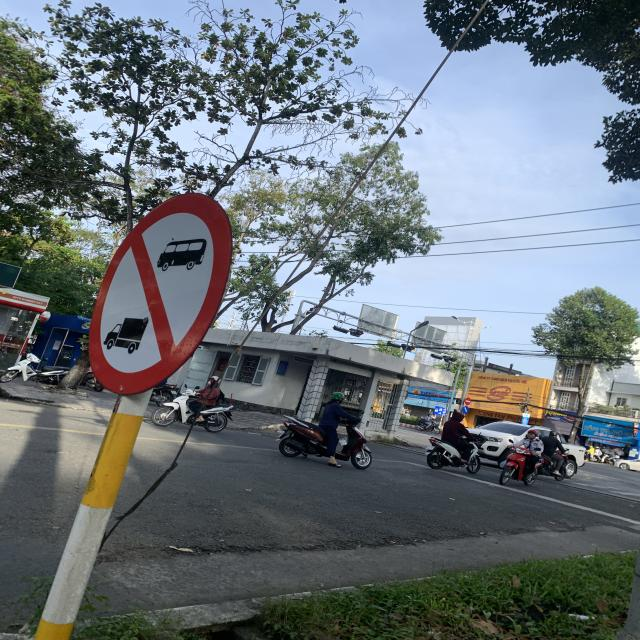Cam_XeTai_XeKhach: (83, 197, 236, 391)
